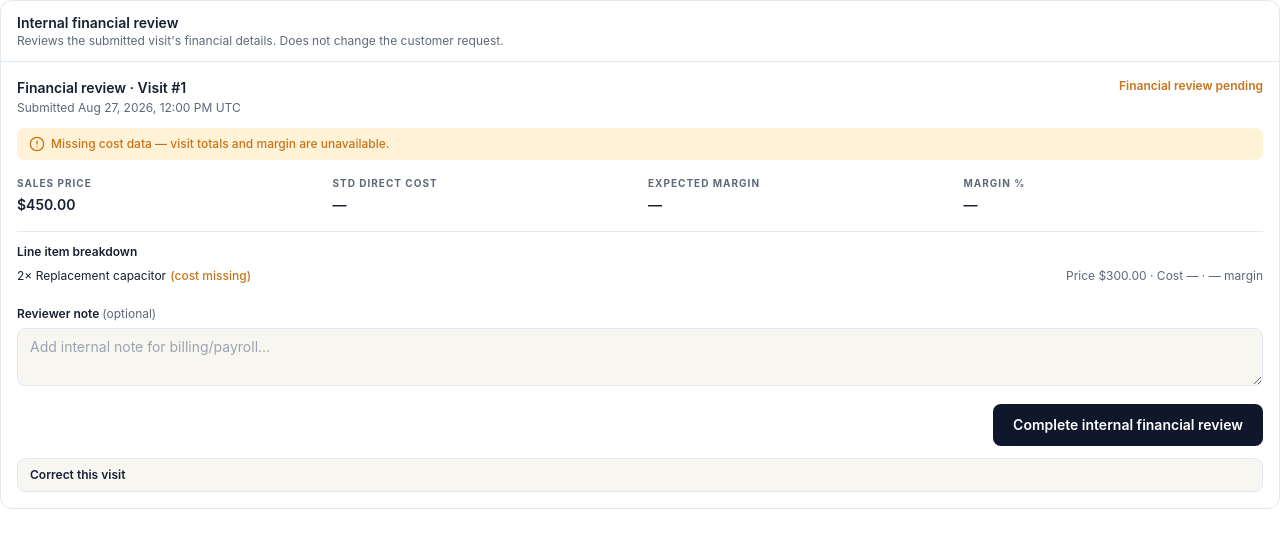
Scenario: ActualWorkReviewCard › shows the zero-line-disposition blocked notice
Click the button "Complete internal financial review" at [1128, 425], box 993,404 -> 1263,446
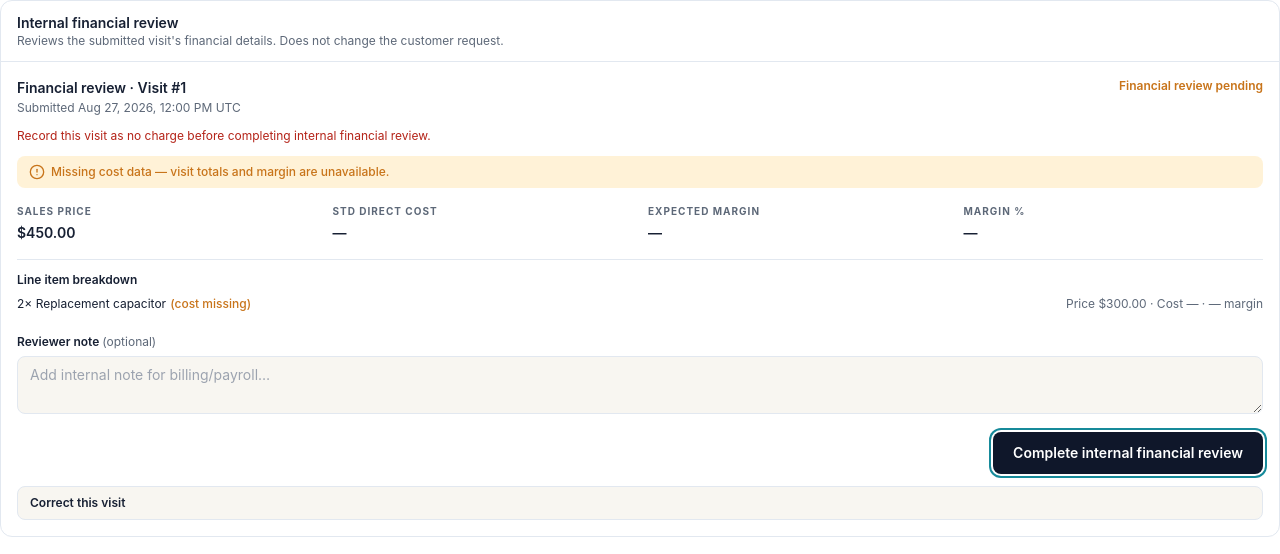
Now the message shows "Record this visit as no charge", box 17,128 -> 431,143
